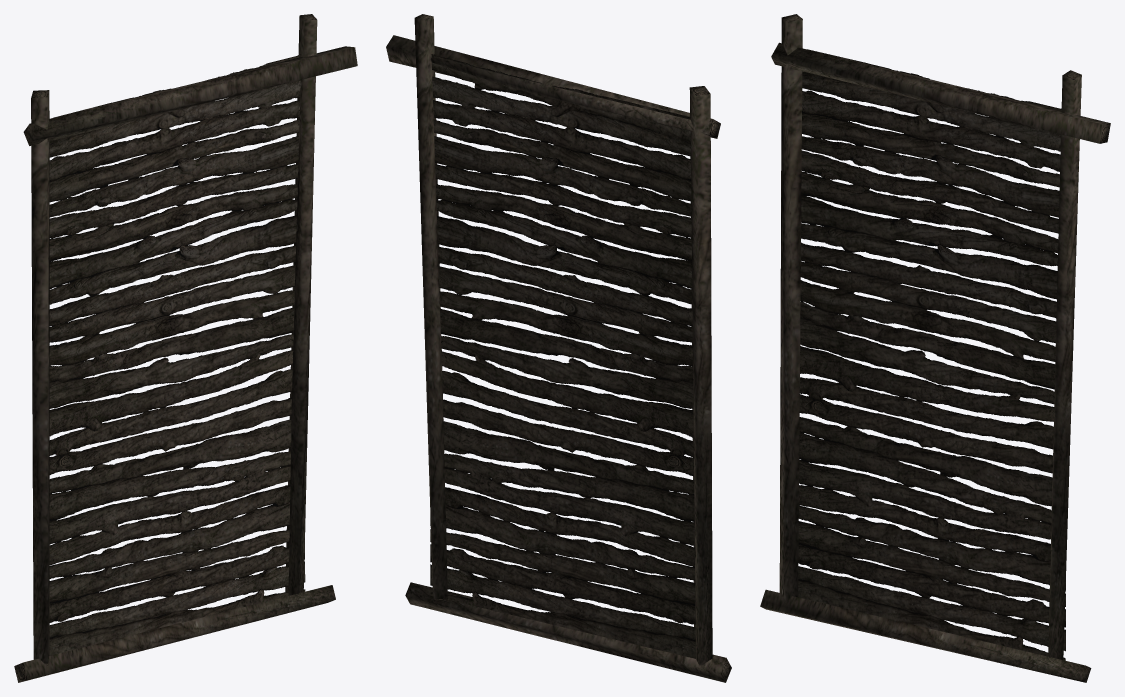
File: MEP_Wall_01_LOD_01.fbx
3 views of the same model, side by side, from view 1: azimuth 30°, elevation 25°; view 2: azimuth 150°, elevation 25°; view 3: azimuth 330°, elevation 25° (orthographic). The views are drawn at different scales.
Parts seen in each view (by area): view 1: MEP_Wall_01_LOD_01; view 2: MEP_Wall_01_LOD_01; view 3: MEP_Wall_01_LOD_01.
Boxes of the visible parts, box(x1,y1,x2,y2) form: MEP_Wall_01_LOD_01: box(14, 14, 357, 682); MEP_Wall_01_LOD_01: box(386, 14, 731, 682); MEP_Wall_01_LOD_01: box(760, 14, 1110, 682).
Bounding box in the file's own units: 3.28 × 5.57 × 0.2698.
